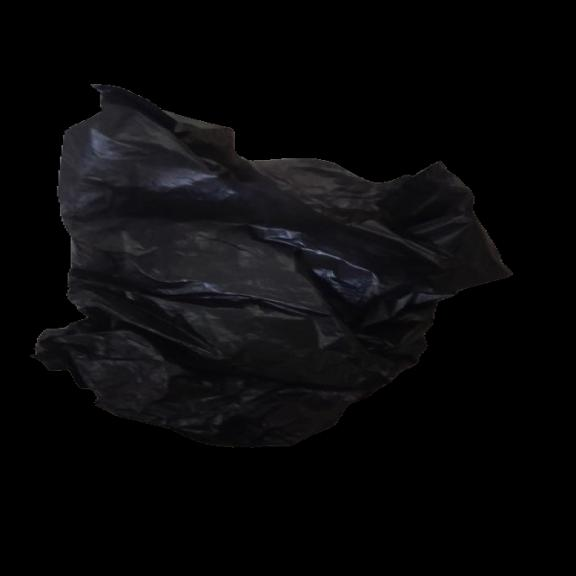Plastik: (22, 74, 513, 450)
